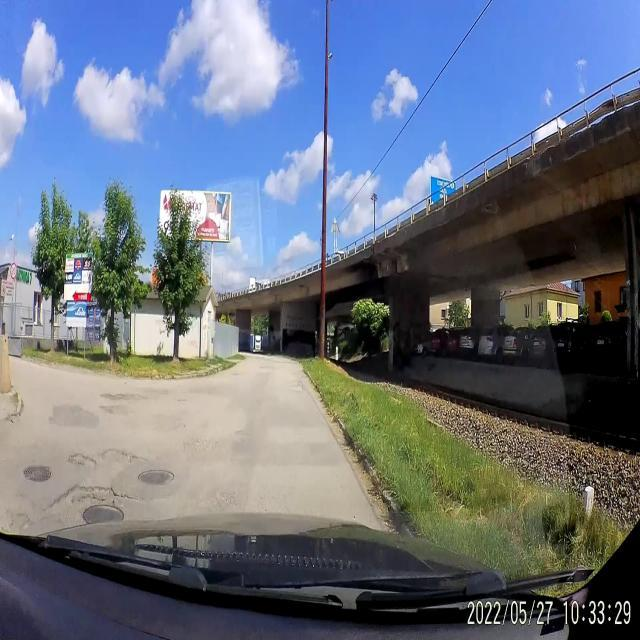Manhole: (80, 499, 126, 529), (134, 461, 174, 489), (22, 458, 54, 484)
Pothole: (66, 481, 132, 501), (68, 446, 98, 471), (98, 402, 144, 417), (100, 446, 133, 465), (99, 391, 154, 400)
